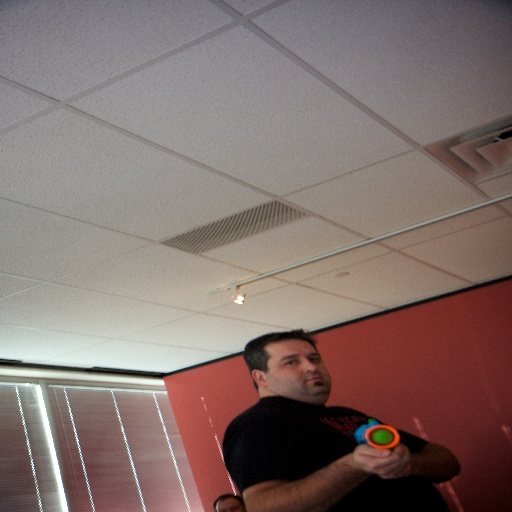hand: (347, 441, 414, 481), (379, 464, 414, 480)
